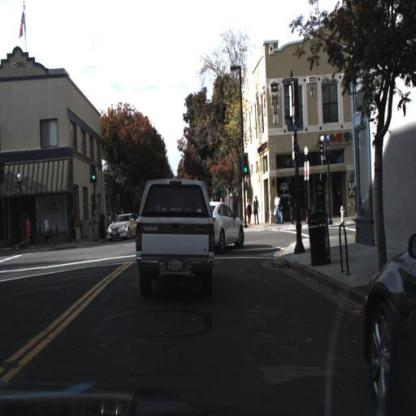car: (136, 179, 217, 294), (214, 200, 246, 249), (108, 210, 137, 243), (138, 217, 148, 248)
pedestrian: (273, 192, 282, 227), (70, 208, 78, 242), (25, 216, 33, 244), (92, 212, 99, 243), (289, 193, 295, 227), (44, 216, 51, 244), (254, 196, 260, 222)
trafficLight-Green: (243, 152, 250, 178), (91, 164, 100, 184), (90, 164, 98, 183)
